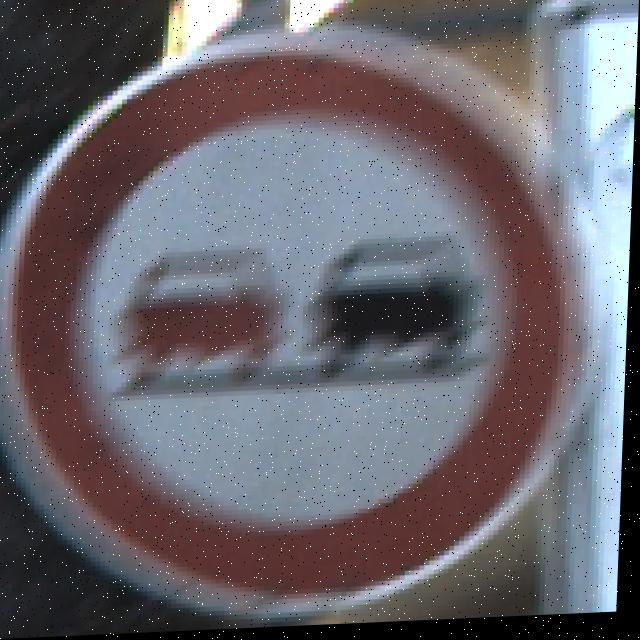no_overtaking: (0, 46, 597, 617)
